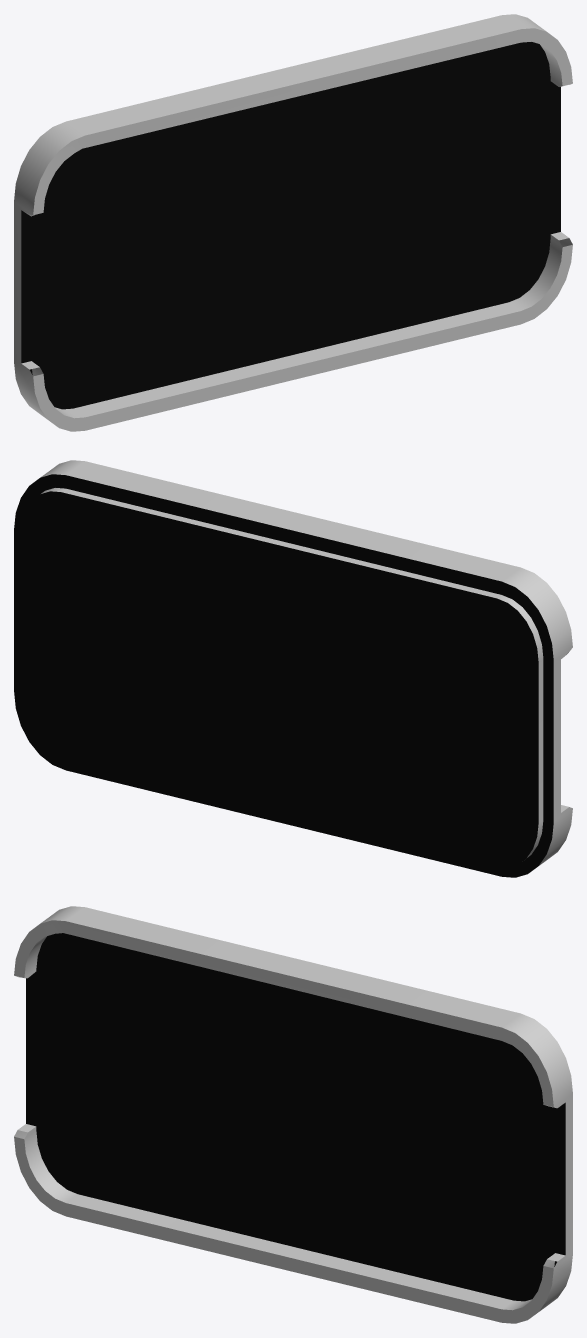
Rendered from table.dae.
The picture shows the model from 3 angles, top to bottom: view 1: azimuth 30°, elevation 25°; view 2: azimuth 150°, elevation 25°; view 3: azimuth 330°, elevation 25°; orthographic projection.
Parts seen in each view (by area): view 1: AirHockey; view 2: AirHockey; view 3: AirHockey.
Part boxes in pixels (x1,y1,x2,y2): AirHockey: [14, 14, 572, 431]; AirHockey: [14, 460, 572, 877]; AirHockey: [14, 906, 572, 1323].
Bounding box in the file's own units: 130 × 10 × 67.95.
Materials: 2 (2 with a texture image).
